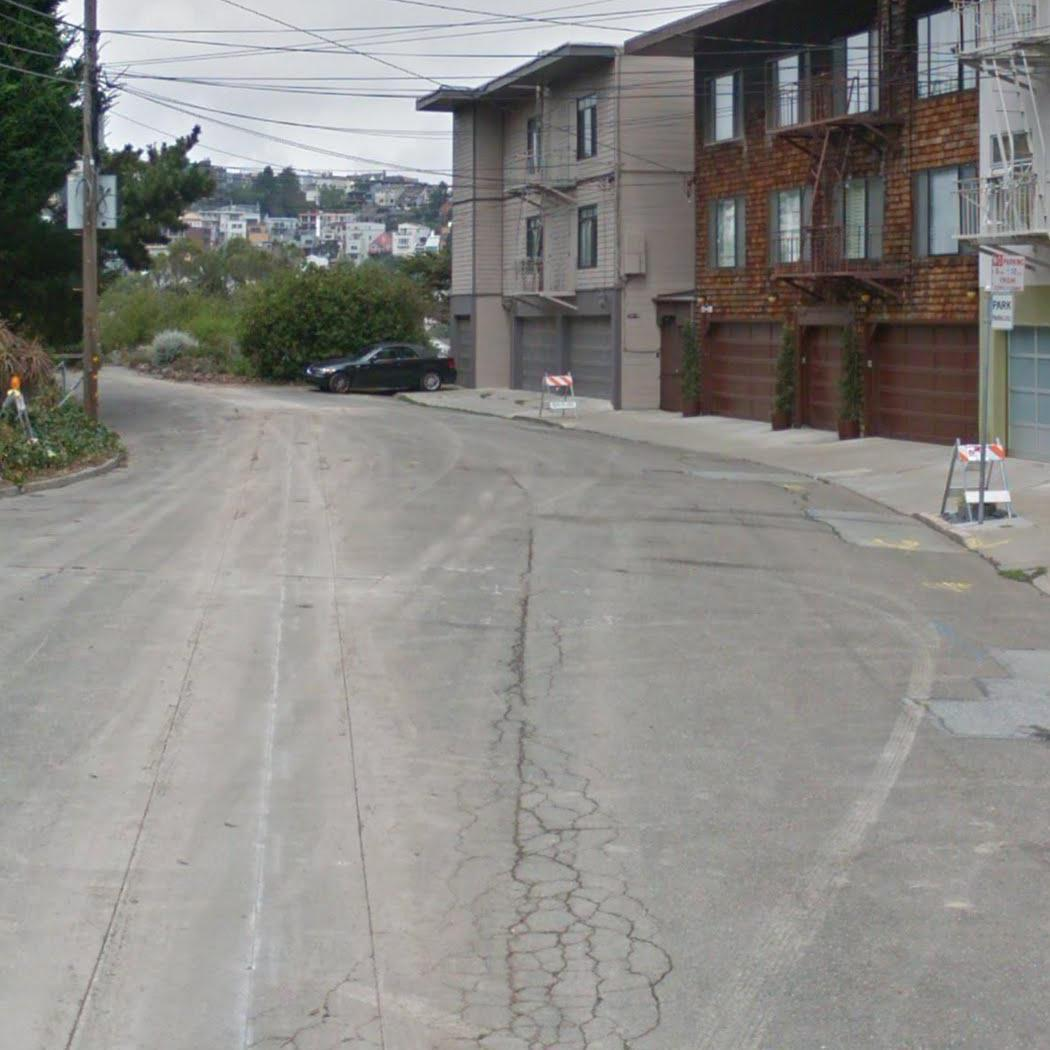No Parking: (984, 249, 1032, 295)
